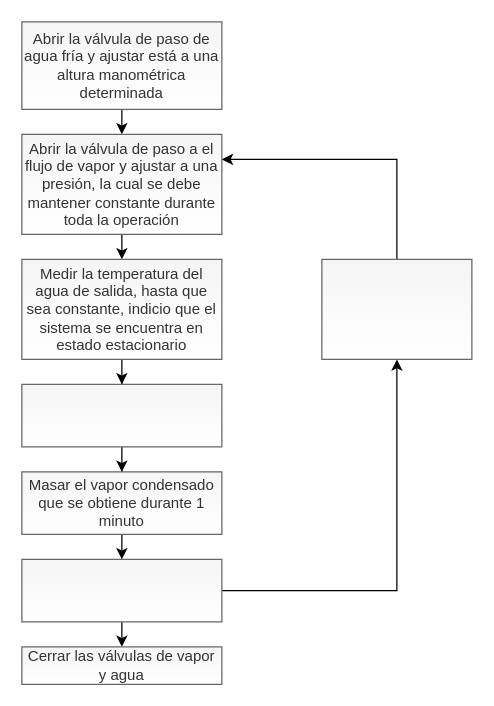
Some shapes in this 494 by 706 pixel diagram are drawn without their labels. The box of each missing label's shape, as (x1, y1, x2, y2) in pixels:
Registrar la temperatura de la carcasa en los 7 puntos marcados en esta: (21, 558, 222, 622)
Registrar las temperaturas de entrada y salida del agua y vapor: (21, 383, 222, 447)
Repetir el proceso a las alturas manométricas y presiones requeridas: (321, 258, 472, 359)
